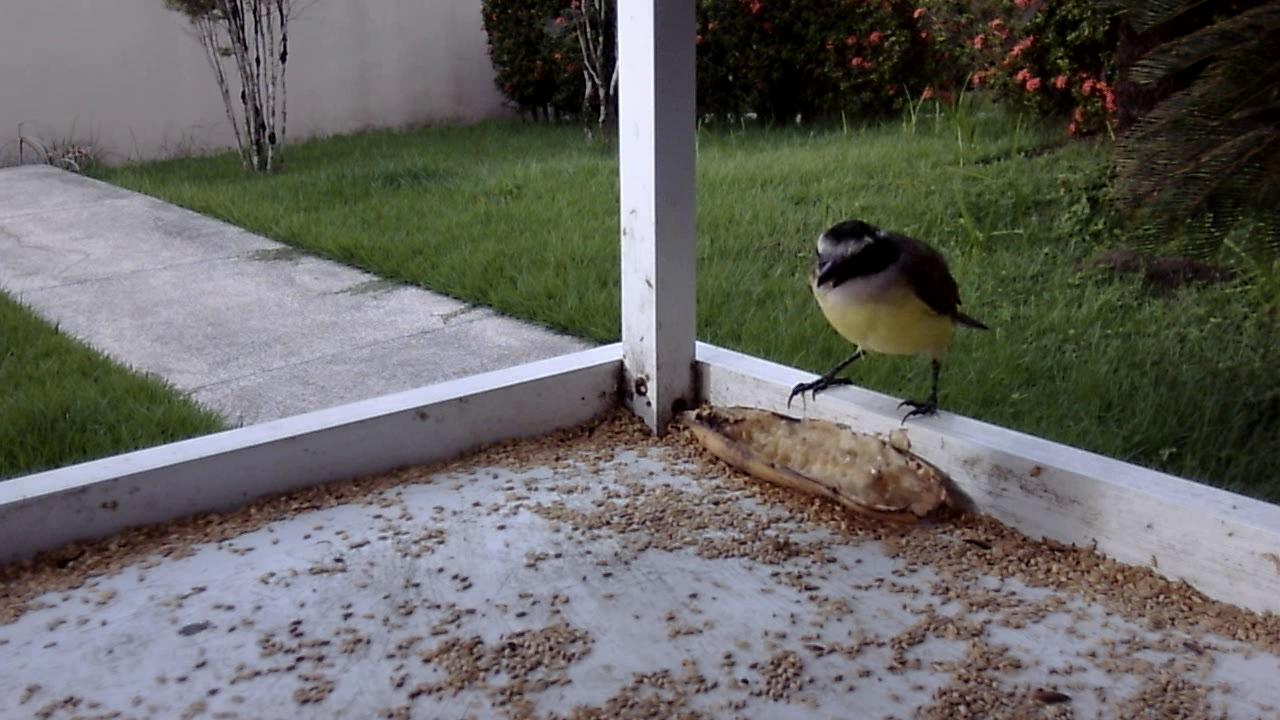bem_te_vi: (781, 207, 992, 435)
